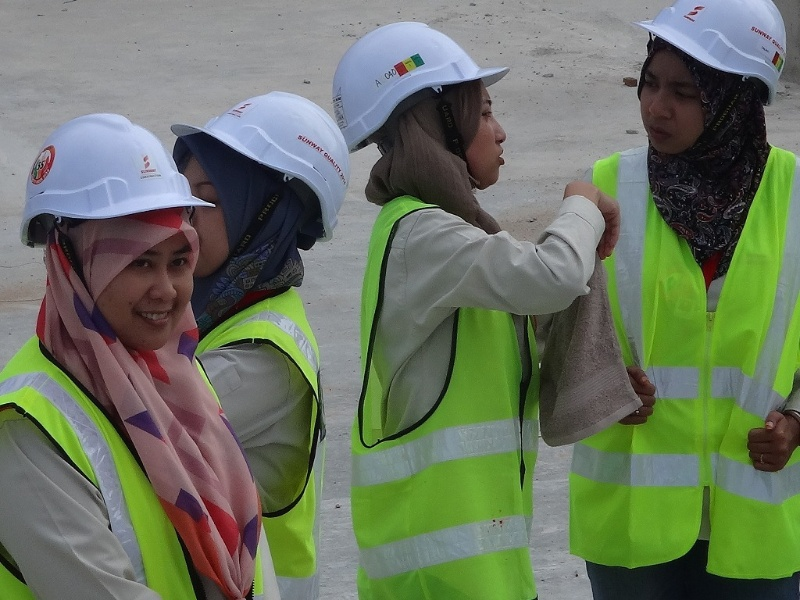Baret: (188, 91, 356, 224), (334, 22, 505, 134), (24, 115, 202, 216), (641, 1, 790, 74)
